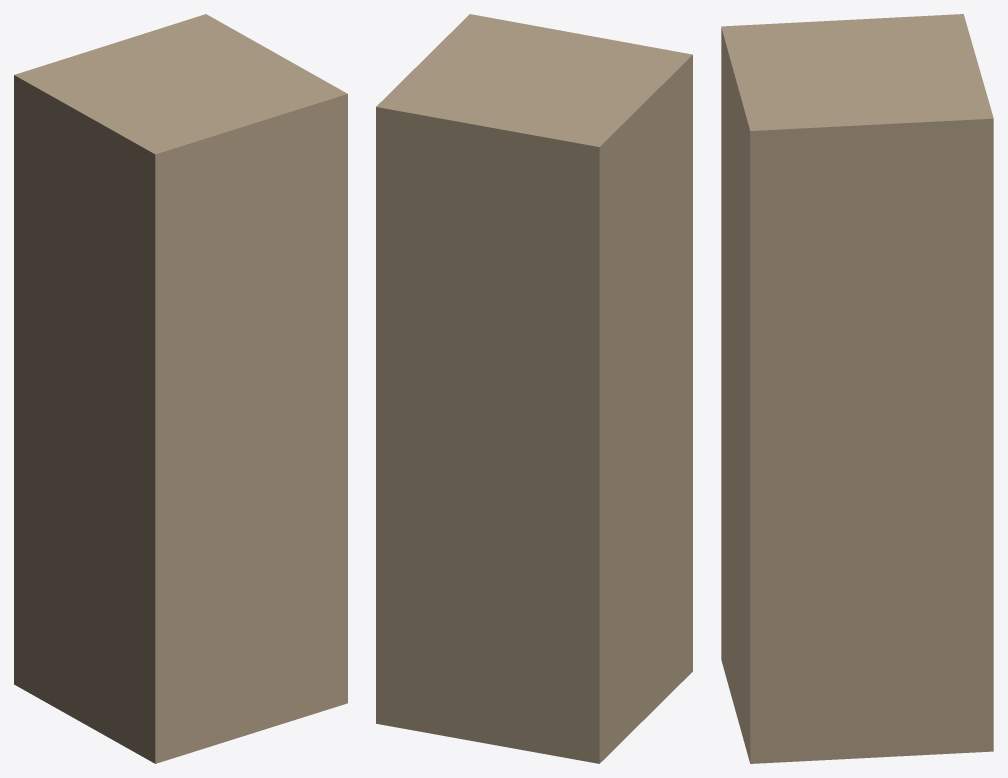
The model's file is bld_393483736.dae.
3 views of the same model, side by side, from view 1: azimuth 30°, elevation 25°; view 2: azimuth 150°, elevation 25°; view 3: azimuth 270°, elevation 25° (orthographic). The views are drawn at different scales.
Parts seen in each view (by area): view 1: bld_393483736; view 2: bld_393483736; view 3: bld_393483736.
Boxes of the visible parts, x1,y1,x2,y2 form: bld_393483736: [14, 14, 347, 763]; bld_393483736: [376, 14, 692, 763]; bld_393483736: [721, 14, 993, 763].
Size of the model in its own units: 3.17 by 3.12 by 8.
